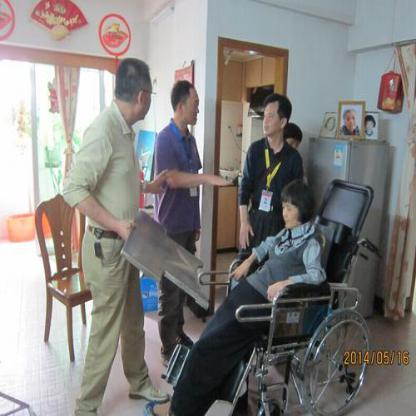wheelchair: (170, 172, 382, 415)
